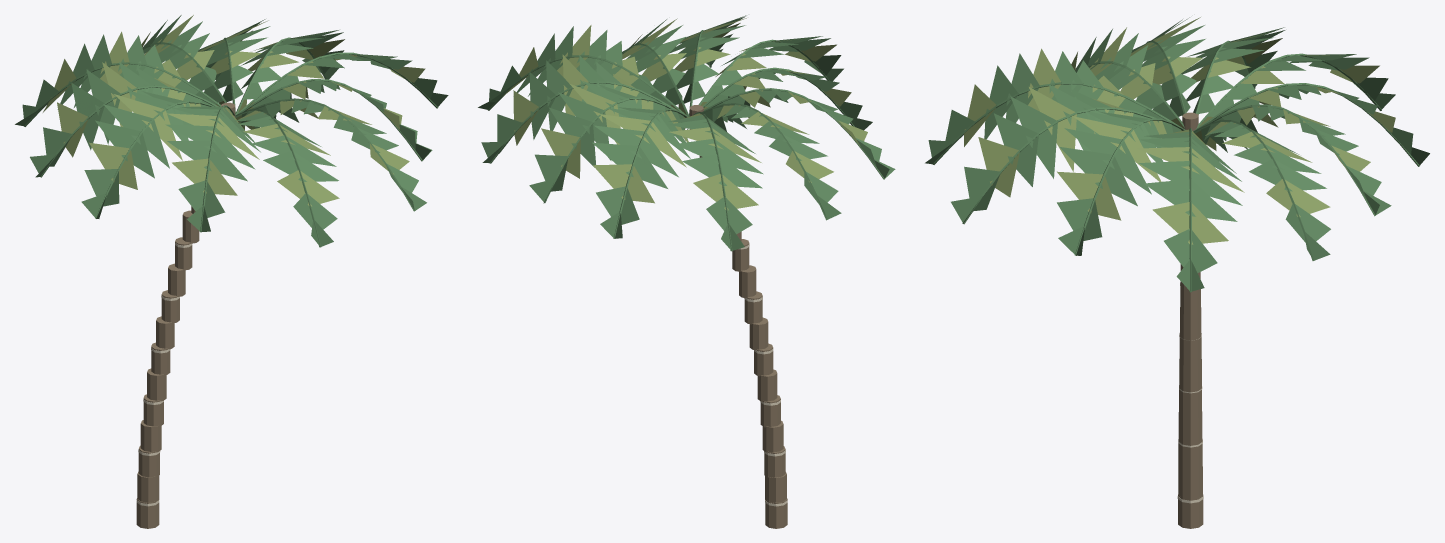
Rendered from palm.glb.
The picture shows the model from 3 angles, left to right: view 1: azimuth 30°, elevation 25°; view 2: azimuth 150°, elevation 25°; view 3: azimuth 270°, elevation 25°; orthographic projection. The views are drawn at different scales.
Visible parts, largest first — view 1: leaf, leafLight, trunk; view 2: leaf, leafLight, trunk; view 3: leaf, leafLight, trunk.
Boxes of the visible parts, x1,y1,x2,y2 form: leaf: (15, 15, 448, 247); leafLight: (43, 15, 425, 206); trunk: (136, 102, 235, 528); leaf: (478, 15, 895, 251); leafLight: (502, 18, 867, 210); trunk: (689, 105, 787, 528); leaf: (925, 17, 1429, 292); leafLight: (964, 17, 1395, 244); trunk: (1178, 112, 1203, 528).
Bounding box in the file's own units: 9.72 × 10.47 × 9.77.
